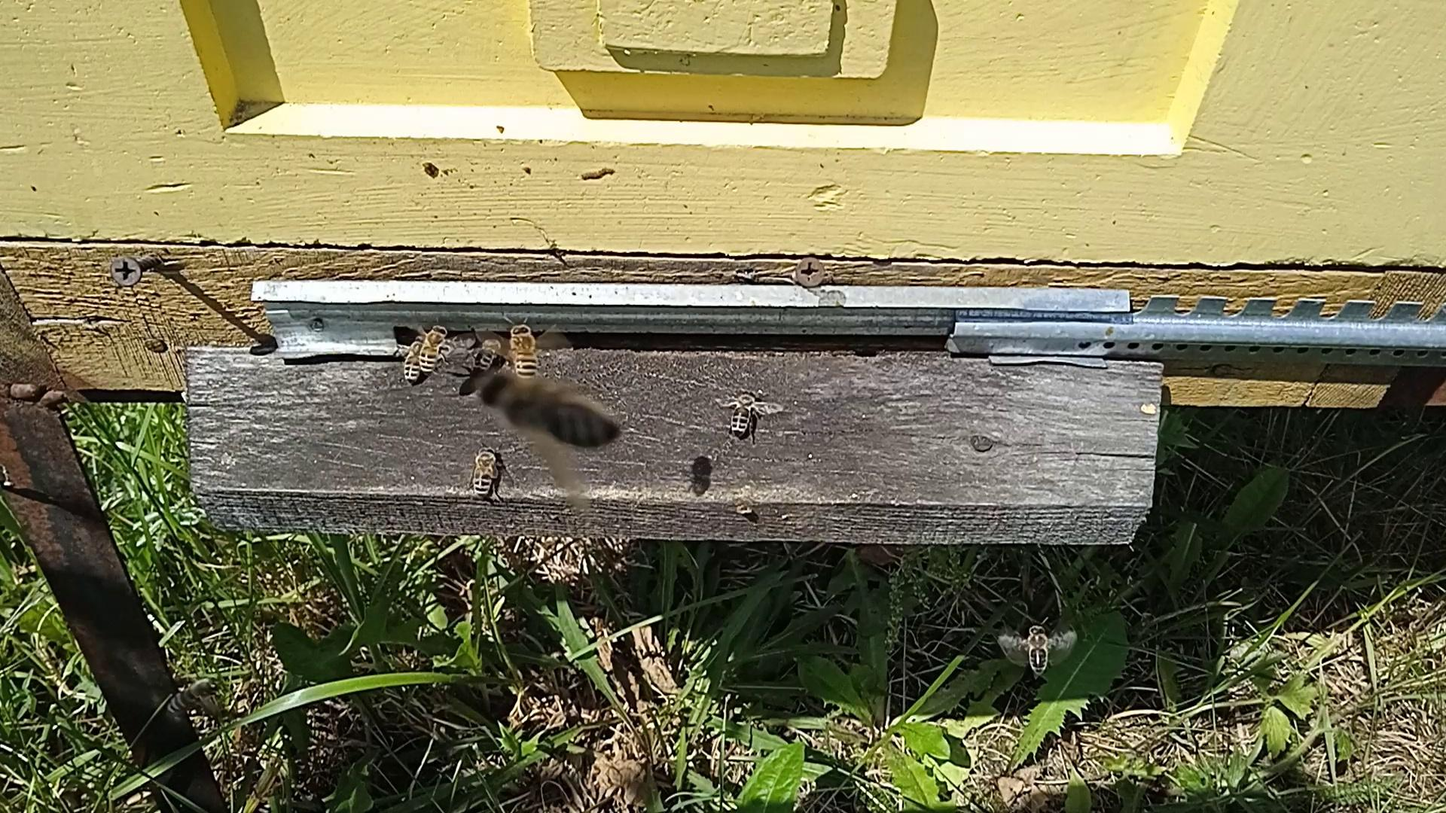worker-bee: (481, 376, 626, 449), (166, 677, 218, 718), (507, 321, 540, 381), (417, 323, 453, 373), (726, 388, 761, 439), (470, 445, 502, 498), (1024, 623, 1052, 677), (474, 330, 508, 373), (400, 340, 424, 384)
